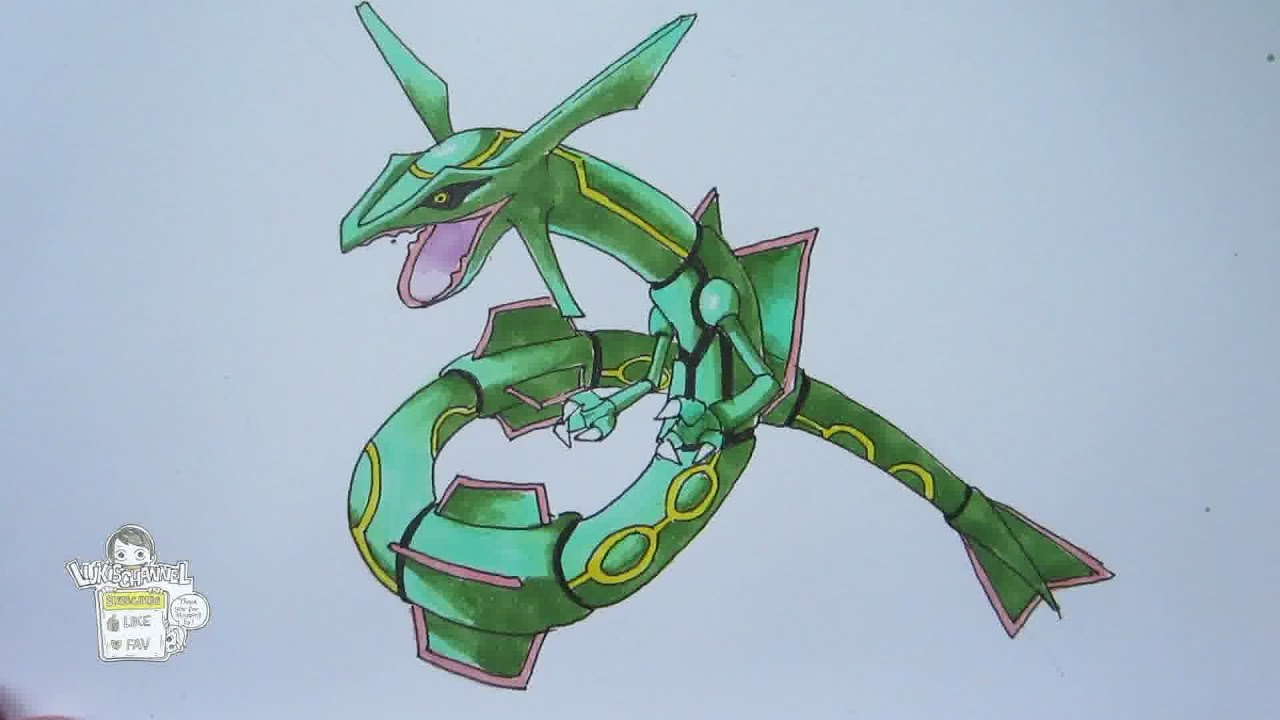rayquaza: (243, 1, 1143, 694)
